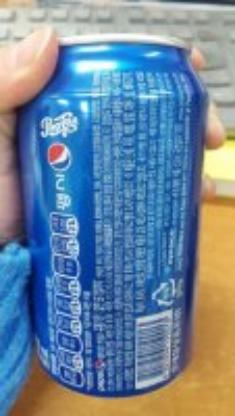Can: (17, 33, 209, 398)
